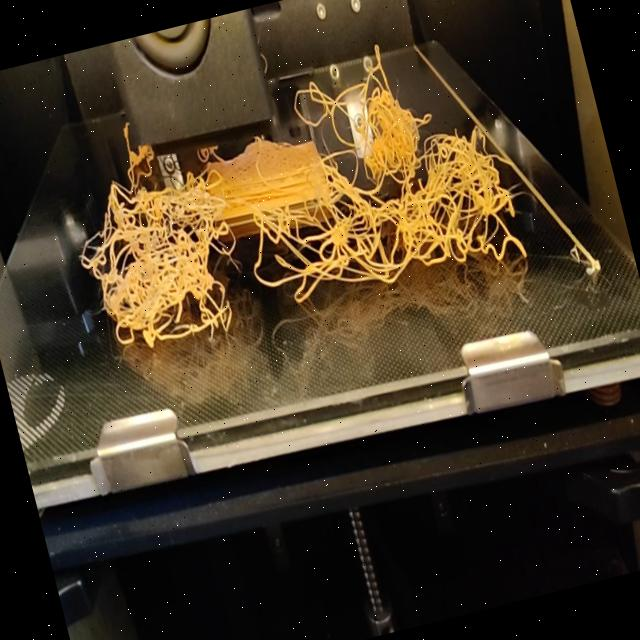spaghetti: (60, 70, 537, 378), (284, 37, 402, 122), (116, 118, 134, 152)
